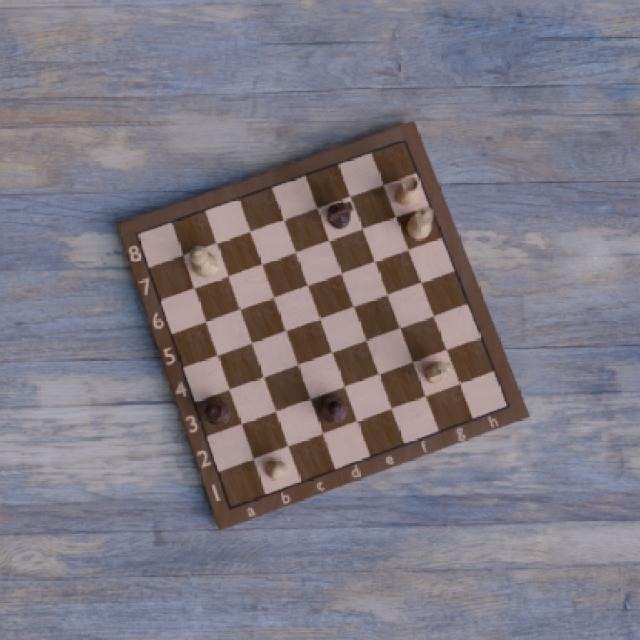black-king: (318, 394, 351, 426)
black-knight: (326, 200, 354, 231)
black-queen: (202, 397, 232, 427)
white-king: (187, 246, 221, 282)
white-knight: (421, 353, 456, 387)
white-pawn: (263, 458, 288, 481)
white-queen: (405, 205, 435, 243)
white-rook: (394, 175, 422, 209)
